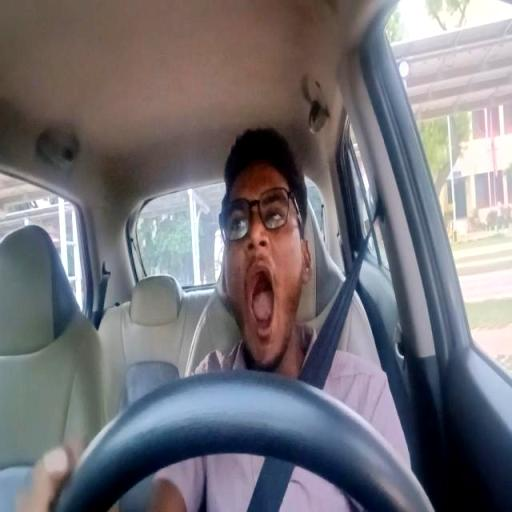yawns: (216, 130, 317, 367)
